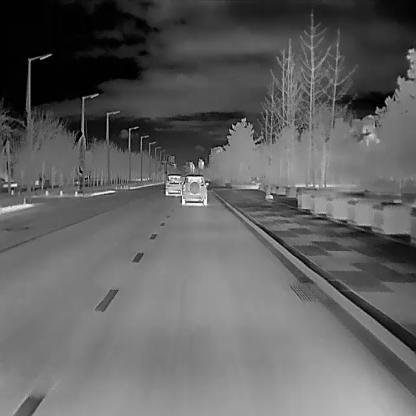car: (181, 173, 209, 206), (164, 173, 182, 196)
